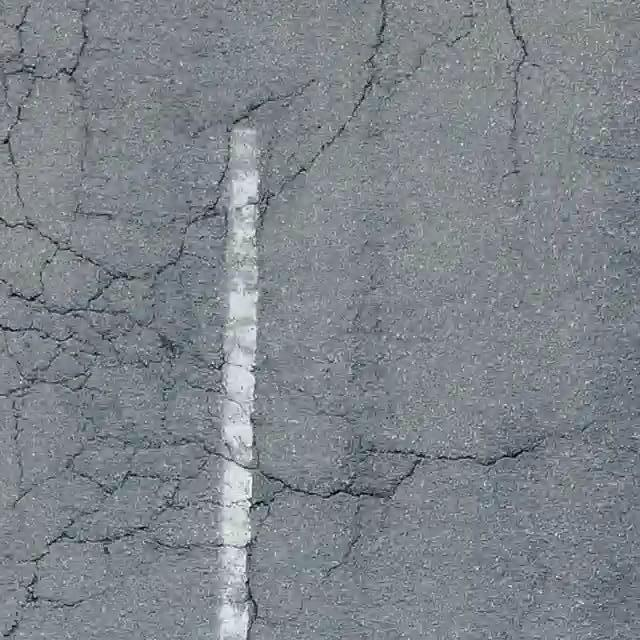GRIETA: (430, 437, 546, 466), (509, 16, 527, 174)
PIEL DE COCODRILO: (0, 0, 533, 639)
